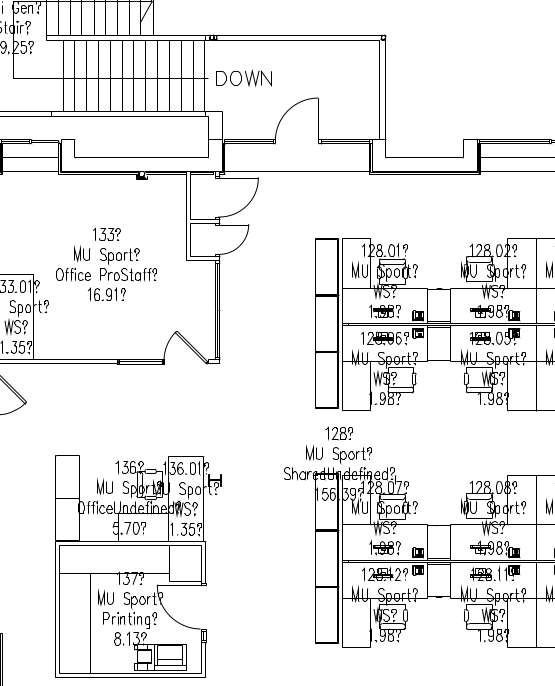door: (272, 91, 321, 144), (151, 581, 200, 634), (217, 176, 263, 218), (162, 330, 206, 366), (216, 223, 258, 256)
